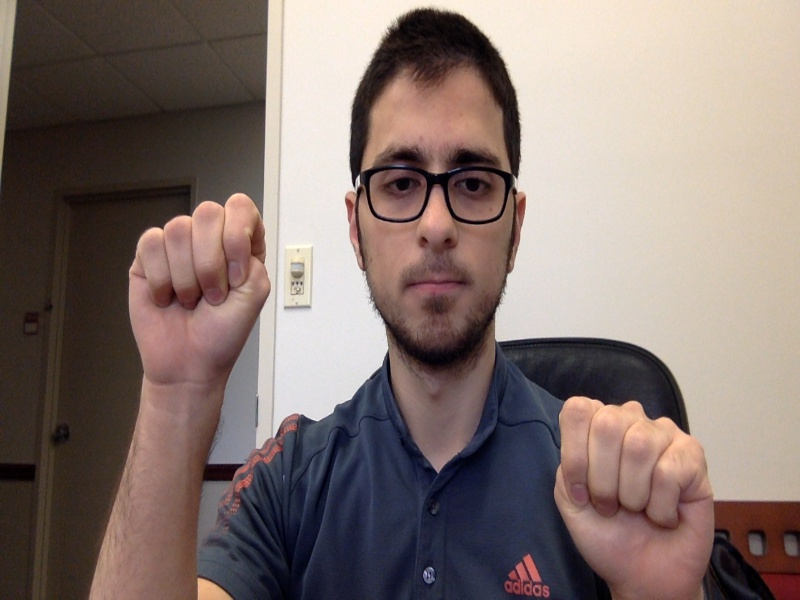0-hand: (557, 396, 714, 594), (127, 194, 271, 377)
